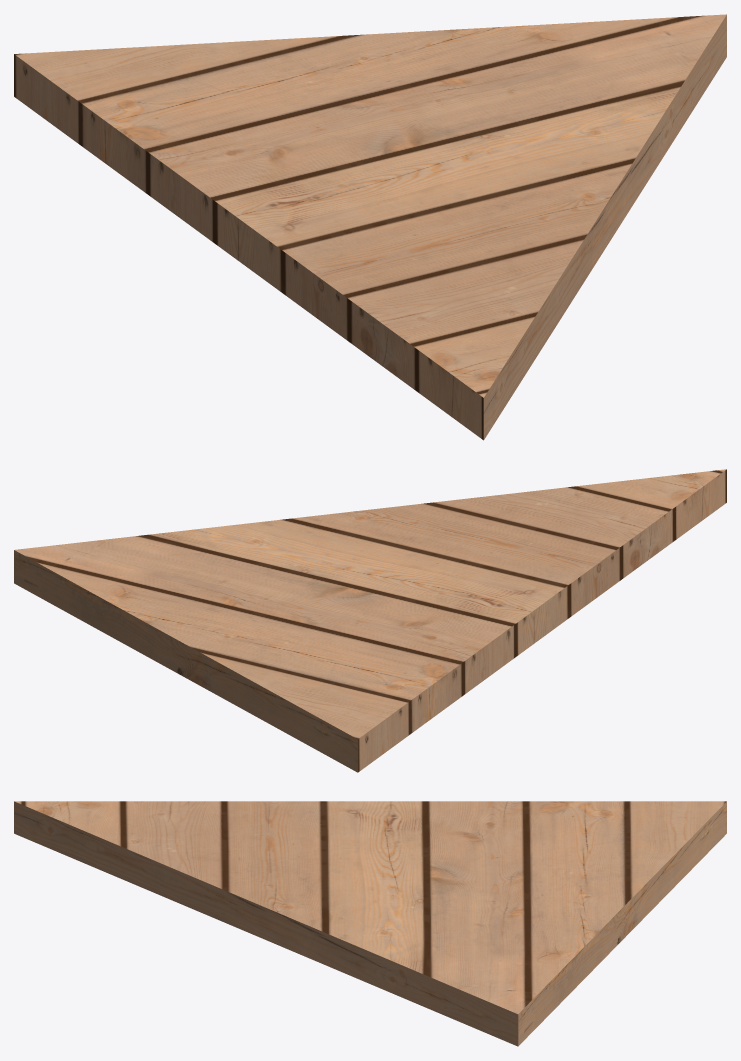
Rendered from WoodRoadCorner1.fbx.
3 renders of one model, top to bottom at view 1: azimuth 30°, elevation 25°; view 2: azimuth 150°, elevation 25°; view 3: azimuth 270°, elevation 25°, orthographic. The views are drawn at different scales.
Visible parts, largest first — view 1: WoodRoadCorner1; view 2: WoodRoadCorner1; view 3: WoodRoadCorner1.
Boxes of the visible parts, x1,y1,x2,y2 form: WoodRoadCorner1: (14,14,726,440); WoodRoadCorner1: (14,469,726,772); WoodRoadCorner1: (14,801,726,1046).
Size of the model in its own units: 141 by 10 by 200.
